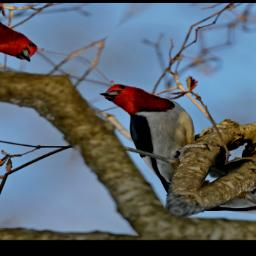Woodpecker: (41, 69, 252, 205)
